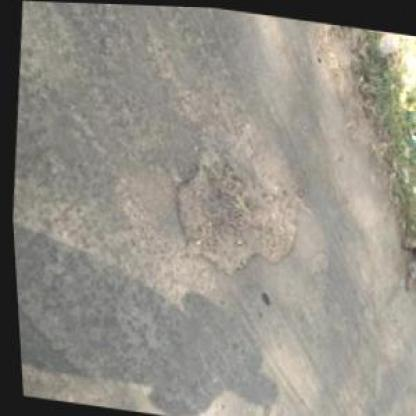pothole: (158, 138, 308, 284), (298, 247, 329, 287)
